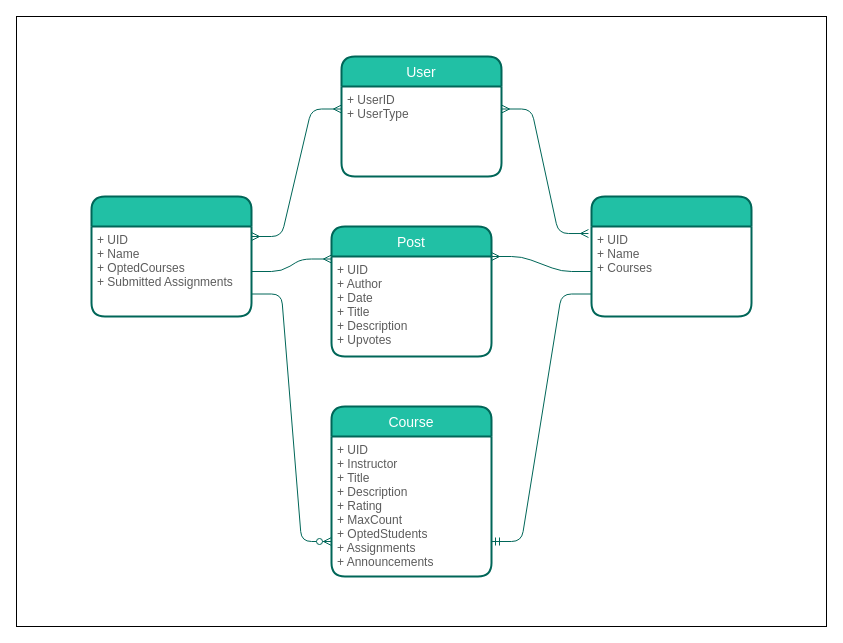
The diagram is 843 pixels wide and 643 high, and some of its shapes have lost their labels. Here are the shapes that lost their labels. From the top down, the box of each, then its label:
(90, 195, 252, 317): Student
(590, 195, 752, 317): Instructor
